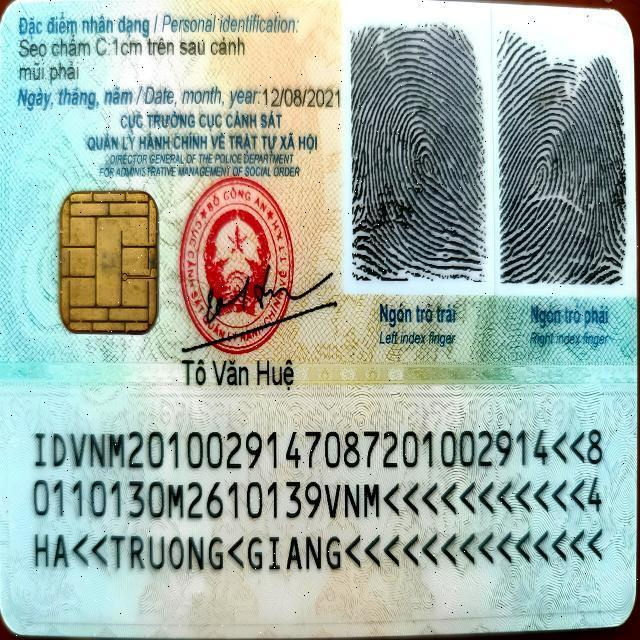features: (14, 34, 262, 61), (14, 56, 85, 86)
finger_print: (341, 5, 497, 347), (492, 4, 640, 349)
issue_date: (261, 81, 343, 113)
